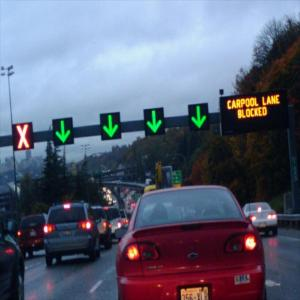Vehicle-registration-plate: (179, 285, 212, 300), (64, 230, 73, 237), (261, 222, 267, 228)
